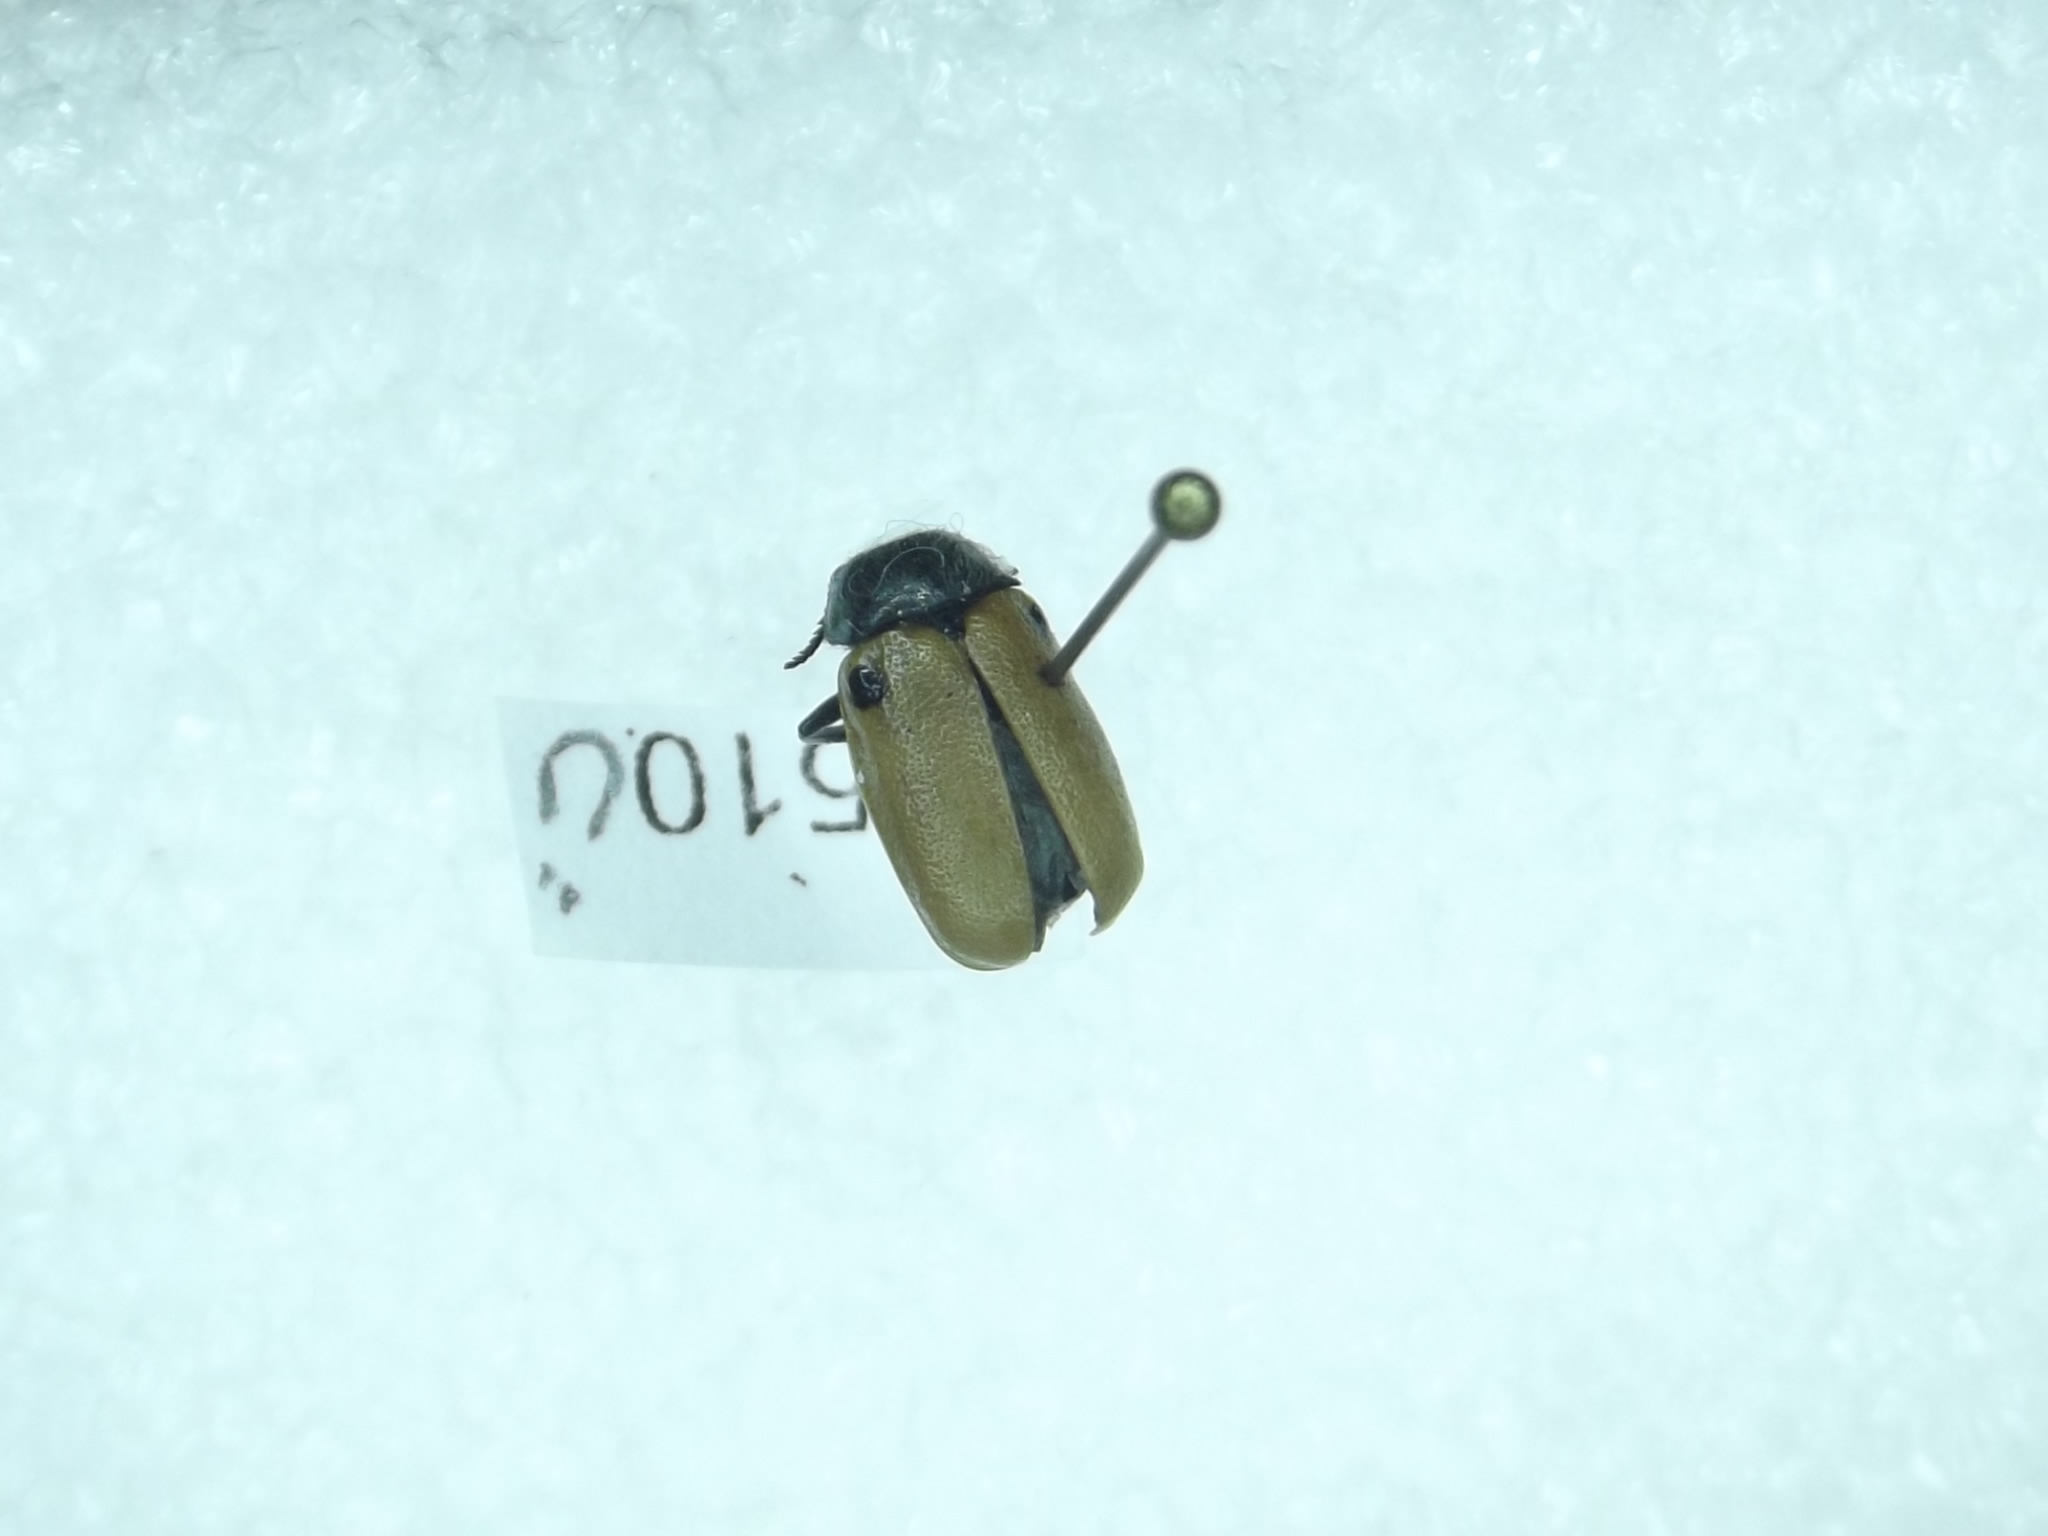Labidostomis_longimana: (789, 505, 1158, 971)
